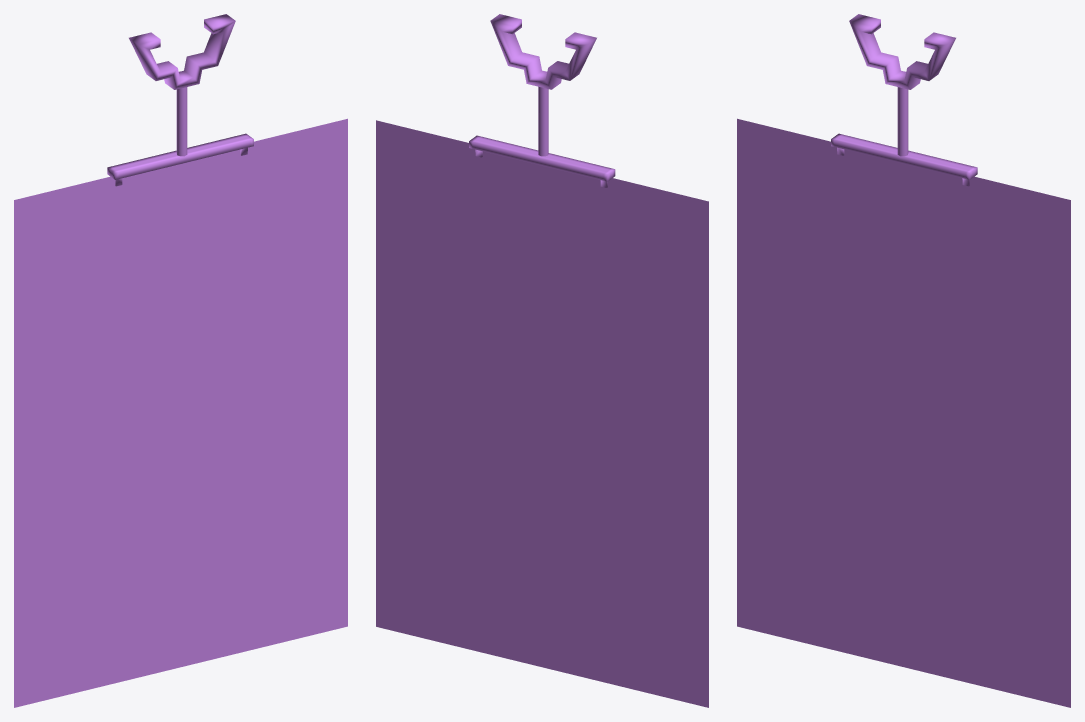
Rendered from SM_LaneTarge.fbx.
3 views of the same model, side by side, from view 1: azimuth 30°, elevation 25°; view 2: azimuth 150°, elevation 25°; view 3: azimuth 330°, elevation 25° (orthographic).
Visible parts, largest first — view 1: ShootingRange_Assets1_1; view 2: ShootingRange_Assets1_1; view 3: ShootingRange_Assets1_1.
Boxes of the visible parts, bbox=[...] form: ShootingRange_Assets1_1: bbox=[14, 14, 347, 707]; ShootingRange_Assets1_1: bbox=[376, 14, 708, 707]; ShootingRange_Assets1_1: bbox=[737, 14, 1070, 707].
Size of the model in its own units: 51.69 by 94.56 by 2.73.
